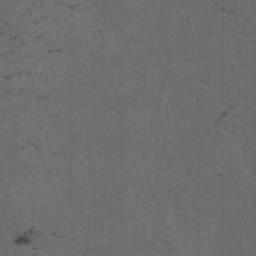Inclusion: (13, 225, 58, 251), (219, 0, 238, 23), (218, 102, 237, 125)
